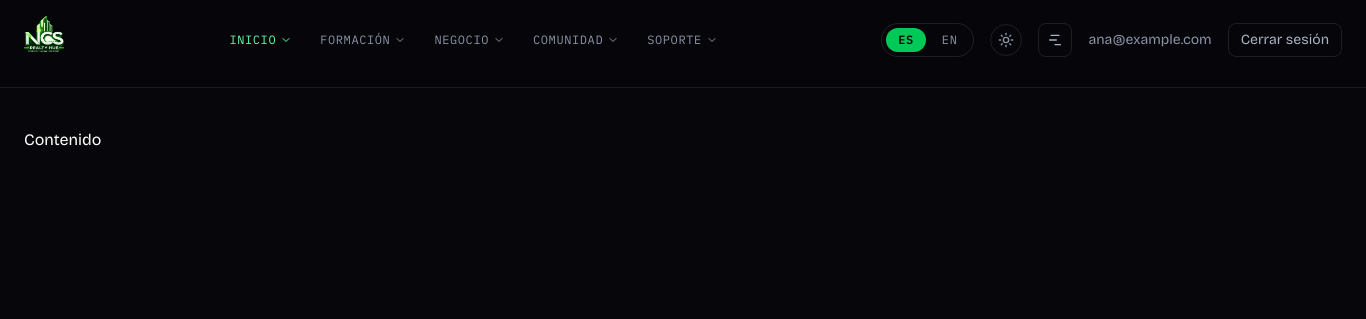
Scenario: EstudianteShell › los ítems sin página construida no son navegables y están deshabilitados
The width and height of the screenshot is (1366, 319).
Step 1. Click the button "Formación" → (363, 40), box [308,24,418,56]
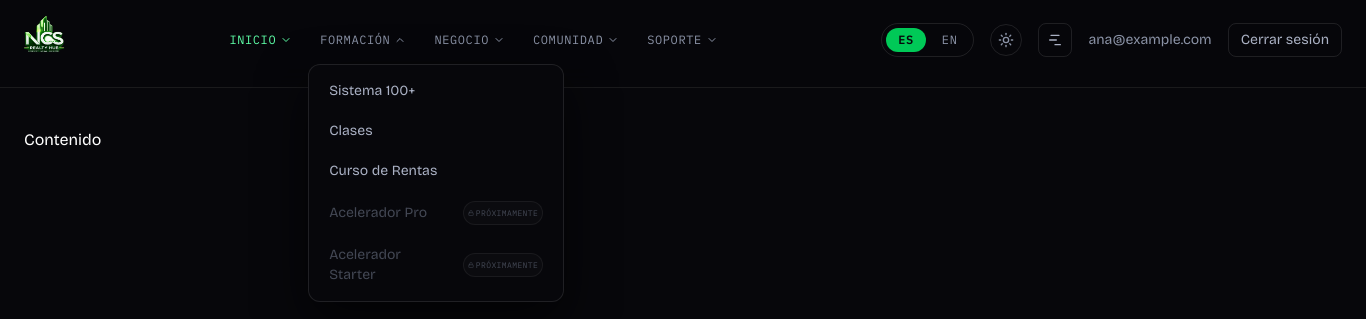
Expected: the text "Acelerador Pro" shows "Próximamente", [476,208,538,218]
